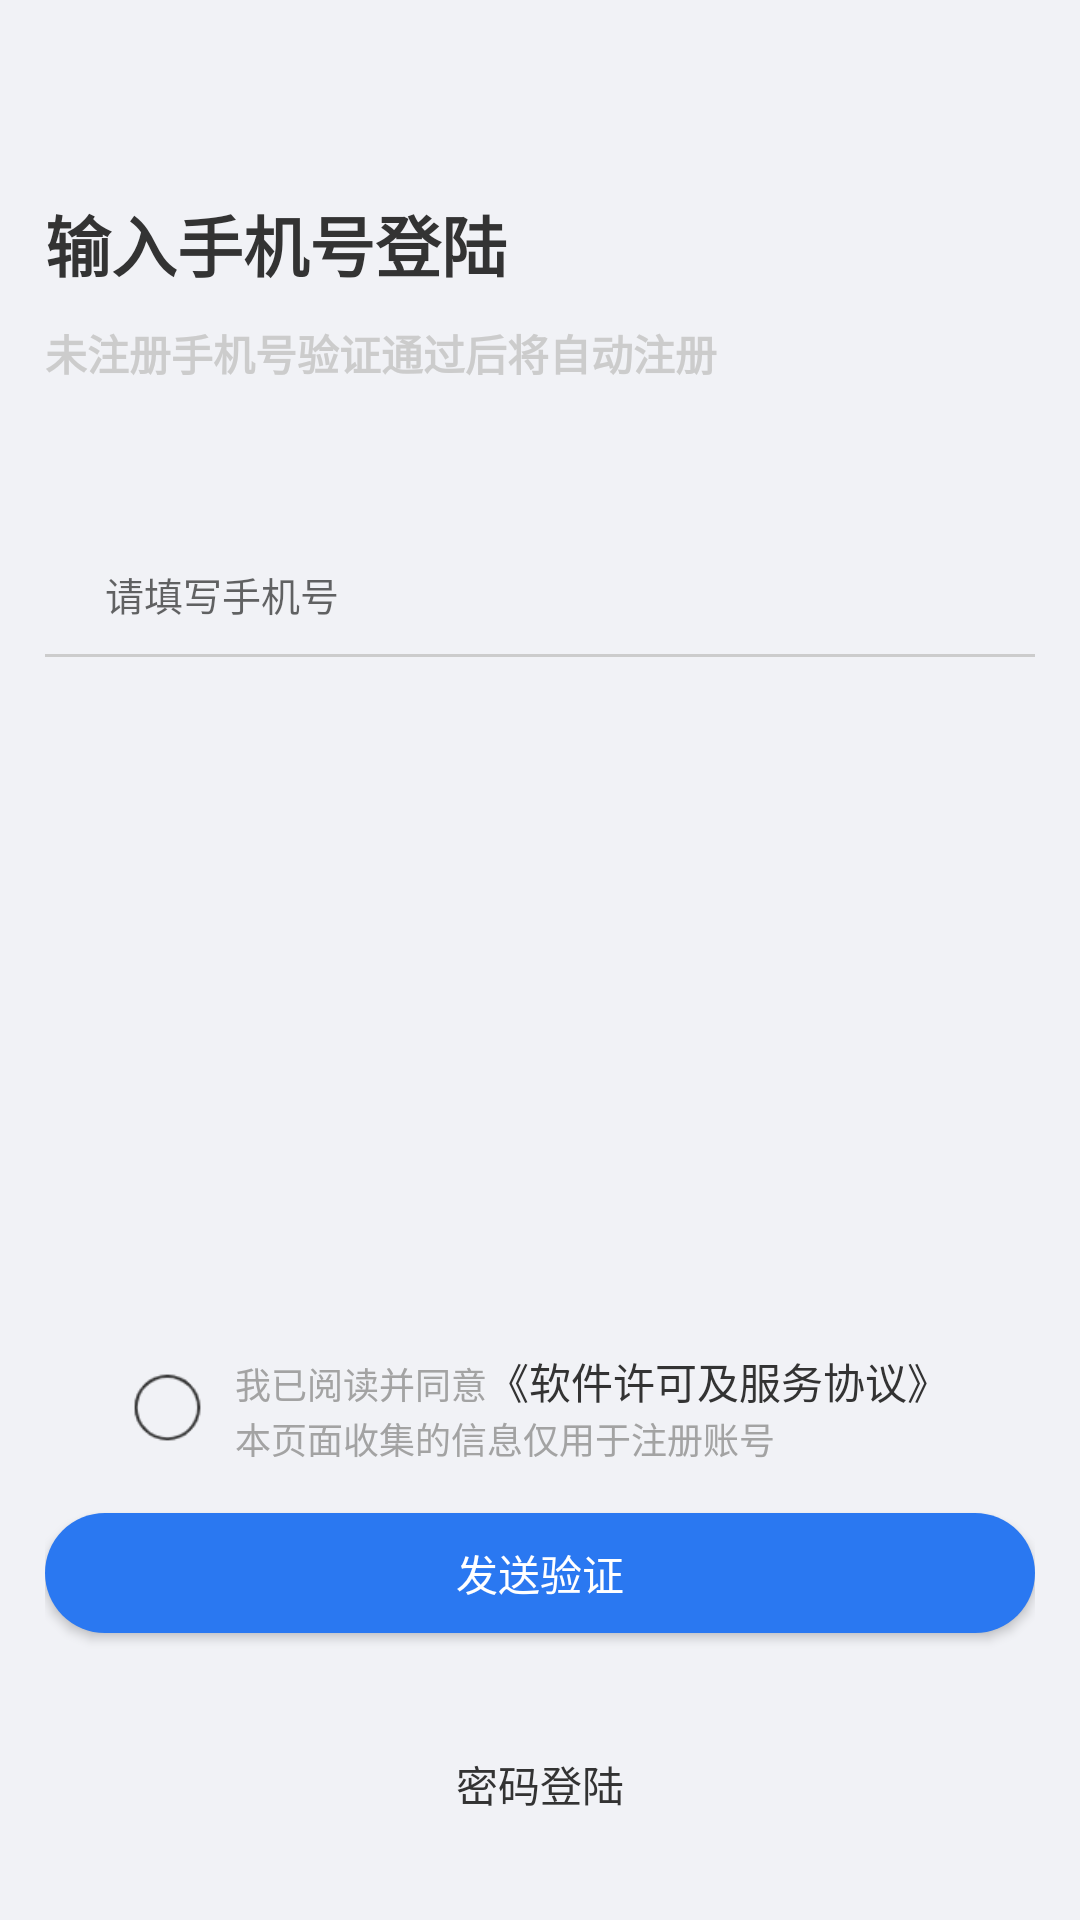

Screen size 1080x1920. Icon name, then its center in pixels as (x,y):
selectyuan: (167,1407)
